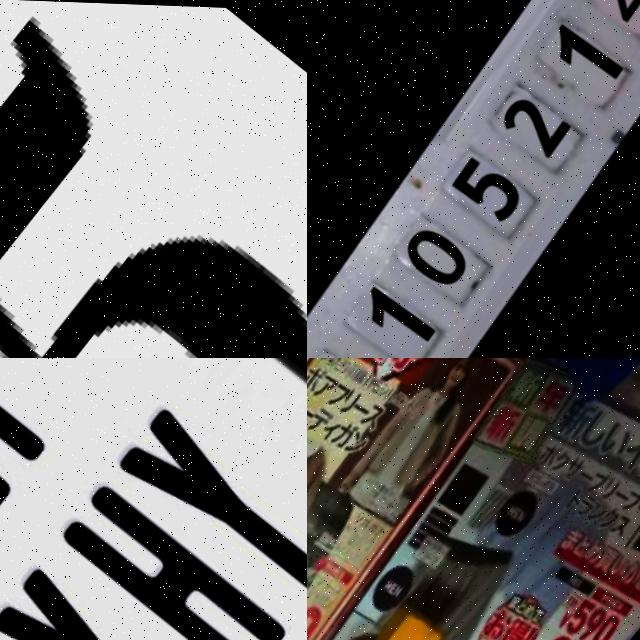0: (382, 205, 489, 308)
1: (527, 11, 631, 108), (339, 272, 444, 358)
2: (479, 74, 584, 174)
4: (576, 0, 640, 42)
5: (0, 1, 307, 358), (434, 140, 538, 239)
H: (55, 470, 296, 640)
L: (307, 525, 449, 640)
X: (0, 558, 231, 640)
Y: (116, 401, 307, 611)
